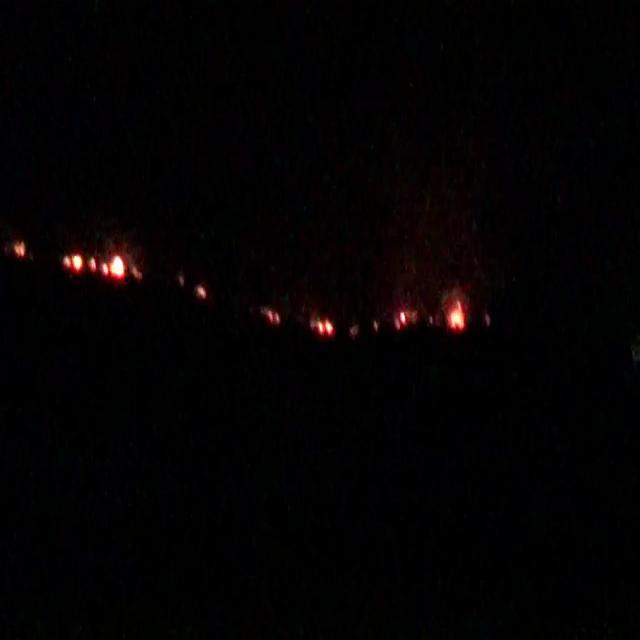Fire: (61, 246, 125, 281), (451, 298, 466, 328), (312, 316, 334, 336), (396, 308, 406, 328)
